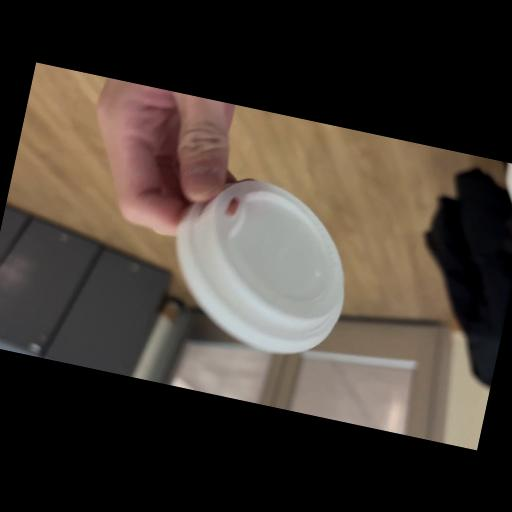lp_cup_lids: (153, 163, 367, 367)
